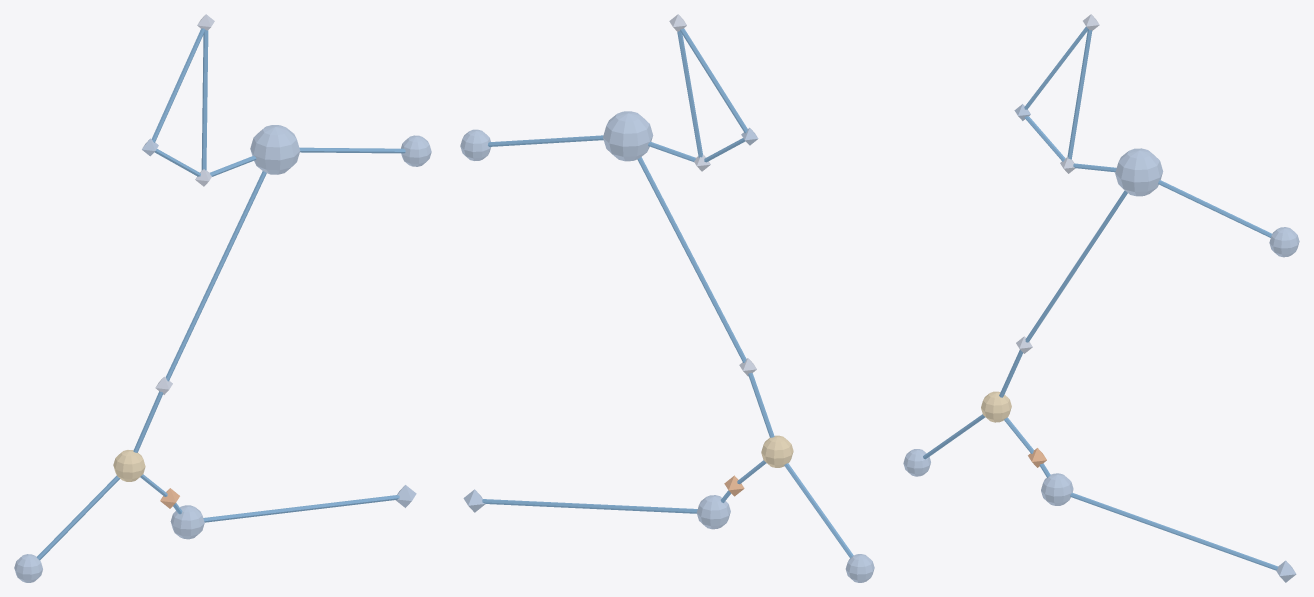
File: constellation-cma.glb
3 views of the same model, side by side, from view 1: azimuth 30°, elevation 25°; view 2: azimuth 150°, elevation 25°; view 3: azimuth 330°, elevation 25° (orthographic). The views are drawn at different scales.
Size of the model in its own units: 1.56 by 1.98 by 0.1956.
